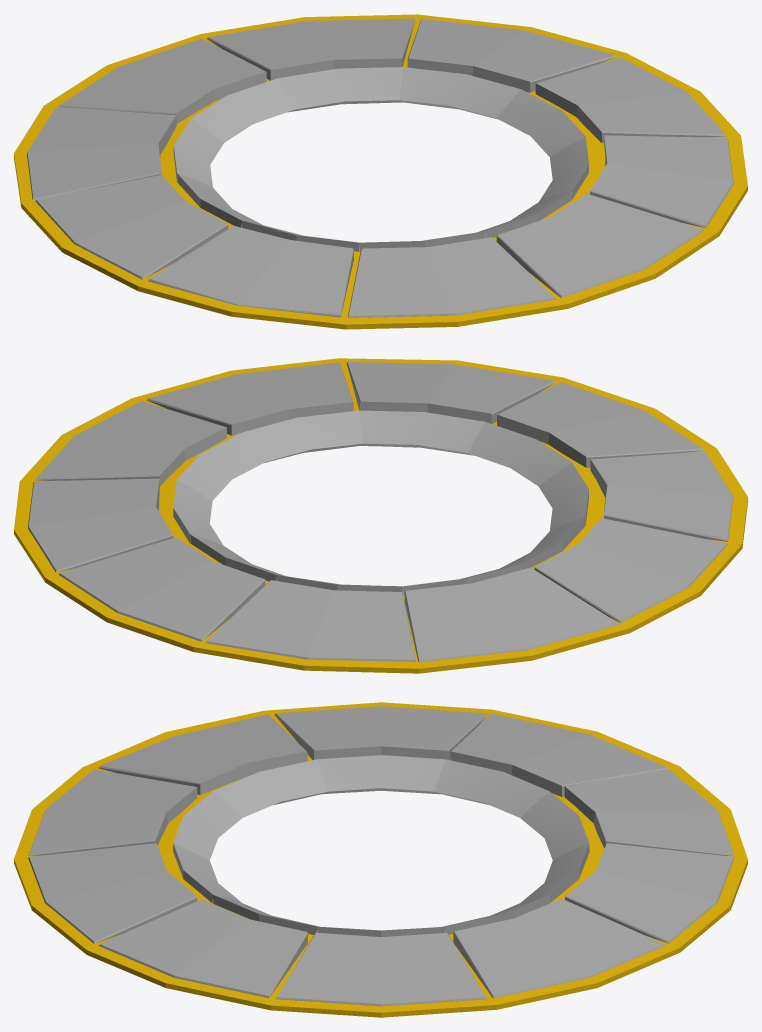
The model's file is SM_Final disc (open).fbx.
3 views of the same model, one above another, from view 1: azimuth 30°, elevation 25°; view 2: azimuth 150°, elevation 25°; view 3: azimuth 270°, elevation 25° (orthographic).
Visible parts, largest first — view 1: otter_wing (×10), inner_wing (×10), ornage_ring; view 2: otter_wing (×10), inner_wing (×10), ornage_ring; view 3: otter_wing (×10), inner_wing (×10), ornage_ring.
Boxes of the visible parts, bbox=[...] form: otter_wing (×10): bbox=[27, 18, 733, 317]; inner_wing (×10): bbox=[173, 67, 588, 251]; ornage_ring: bbox=[14, 14, 747, 329]; otter_wing (×10): bbox=[28, 362, 733, 662]; inner_wing (×10): bbox=[173, 410, 588, 595]; ornage_ring: bbox=[14, 358, 747, 673]; otter_wing (×10): bbox=[28, 706, 734, 1006]; inner_wing (×10): bbox=[173, 755, 589, 936]; ornage_ring: bbox=[14, 702, 747, 1017].
Bounding box in the file's own units: 62.87 × 3.95 × 62.81.
